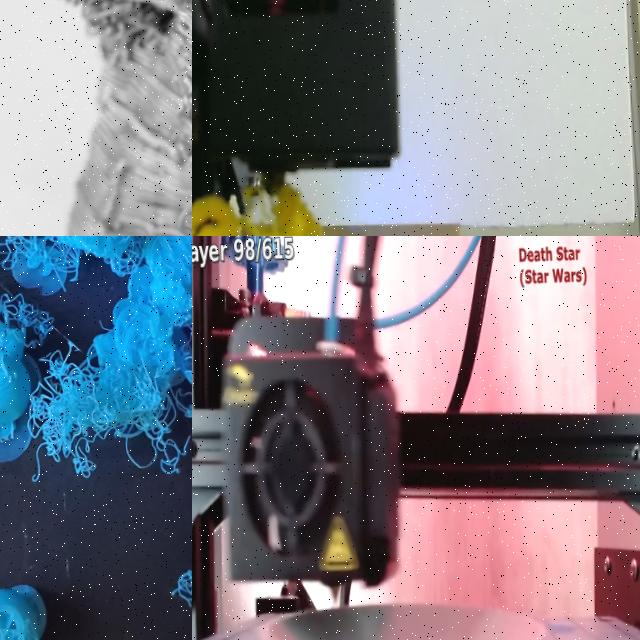spaghetti: (48, 236, 192, 497), (52, 0, 192, 236), (192, 182, 325, 236), (176, 553, 192, 633)
